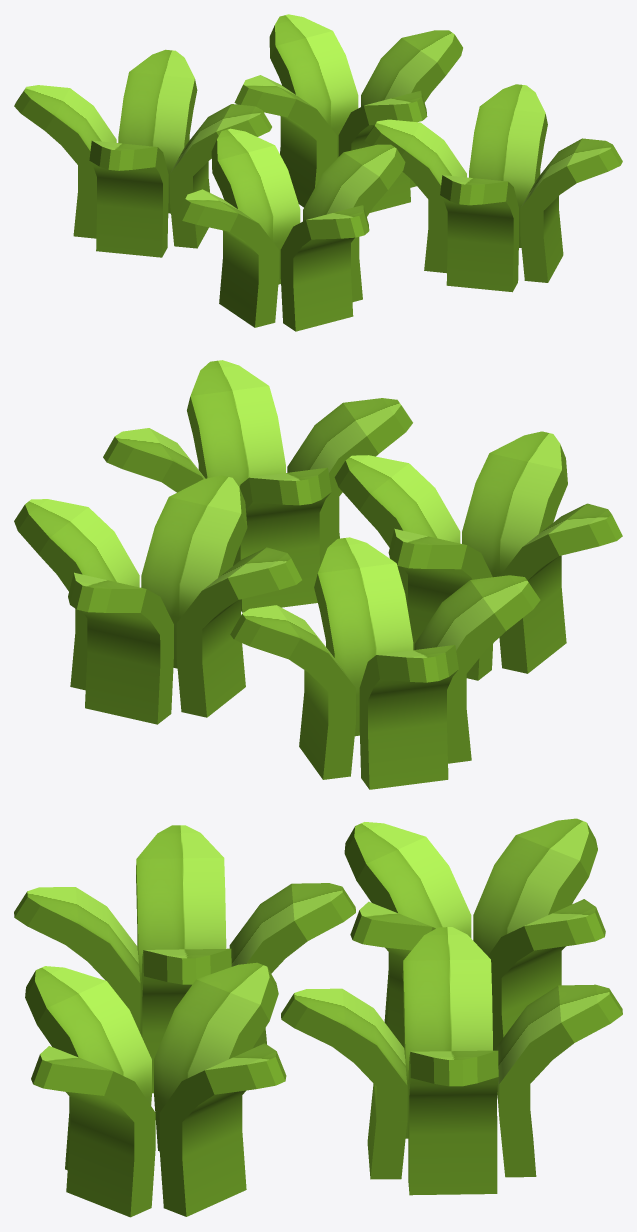
File: Weeds@Model.fbx
The picture shows the model from 3 angles, top to bottom: view 1: azimuth 30°, elevation 25°; view 2: azimuth 150°, elevation 25°; view 3: azimuth 270°, elevation 25°; orthographic projection. The views are drawn at different scales.
Parts seen in each view (by area): view 1: Weeds; view 2: Weeds; view 3: Weeds.
Part boxes in pixels (x1,y1,x2,y2): Weeds: (14, 14, 622, 331); Weeds: (14, 360, 622, 789); Weeds: (14, 818, 622, 1217).
Bounding box in the file's own units: 116 × 35.39 × 118.
